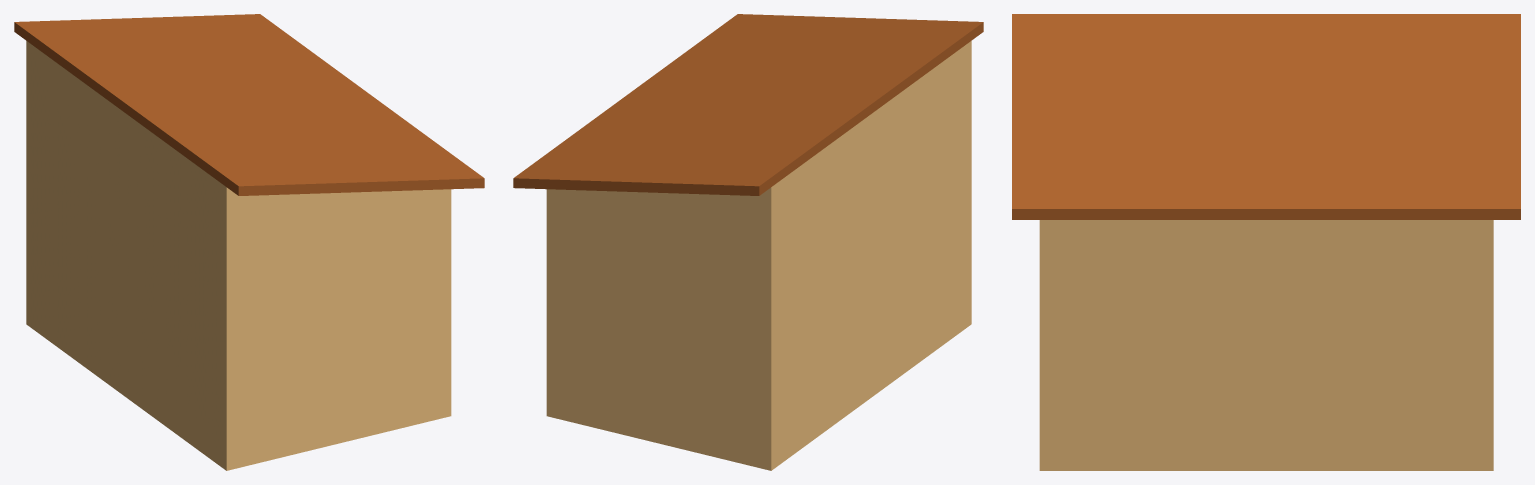
Rendered from Building 02.FBX.
3 renders of one model, left to right at view 1: azimuth 30°, elevation 25°; view 2: azimuth 150°, elevation 25°; view 3: azimuth 270°, elevation 25°, orthographic. The views are drawn at different scales.
Parts seen in each view (by area): view 1: Box001; view 2: Box001; view 3: Box001.
Part boxes in pixels (x1=…): Box001: x1=14, y1=14, x2=484, y2=470; Box001: x1=513, y1=14, x2=983, y2=470; Box001: x1=1012, y1=14, x2=1520, y2=470.
Bounding box in the file's own units: 18.66 × 21.28 × 29.5.
